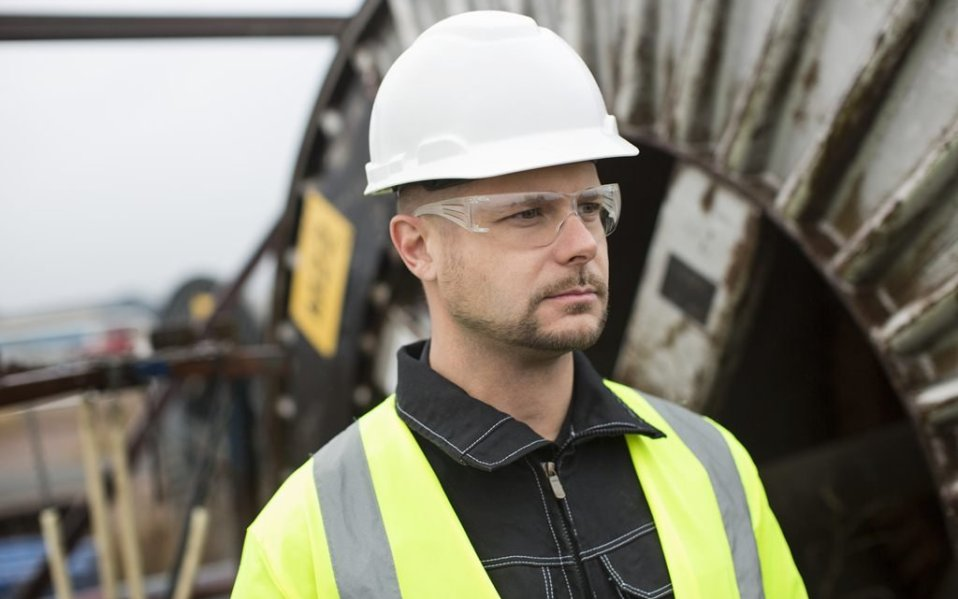hard-hat: (360, 9, 643, 201)
